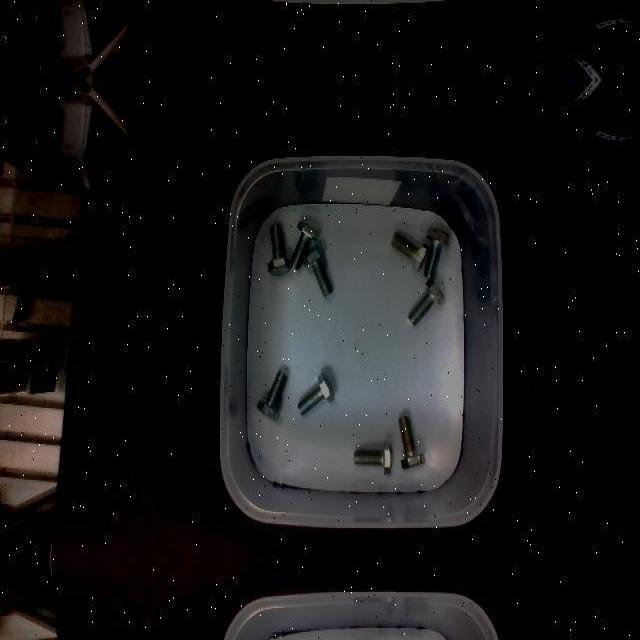screw: (408, 276, 446, 326), (303, 246, 333, 298), (298, 372, 335, 414), (390, 232, 428, 272), (257, 369, 287, 419), (399, 416, 426, 470), (290, 219, 319, 269), (267, 221, 292, 275), (425, 227, 450, 277), (353, 442, 391, 474)
